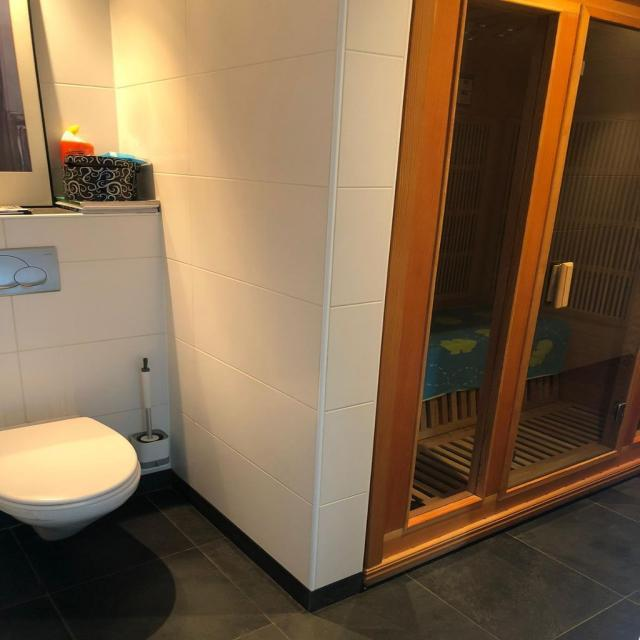douche: (364, 0, 640, 590)
toilet: (0, 245, 144, 544)
